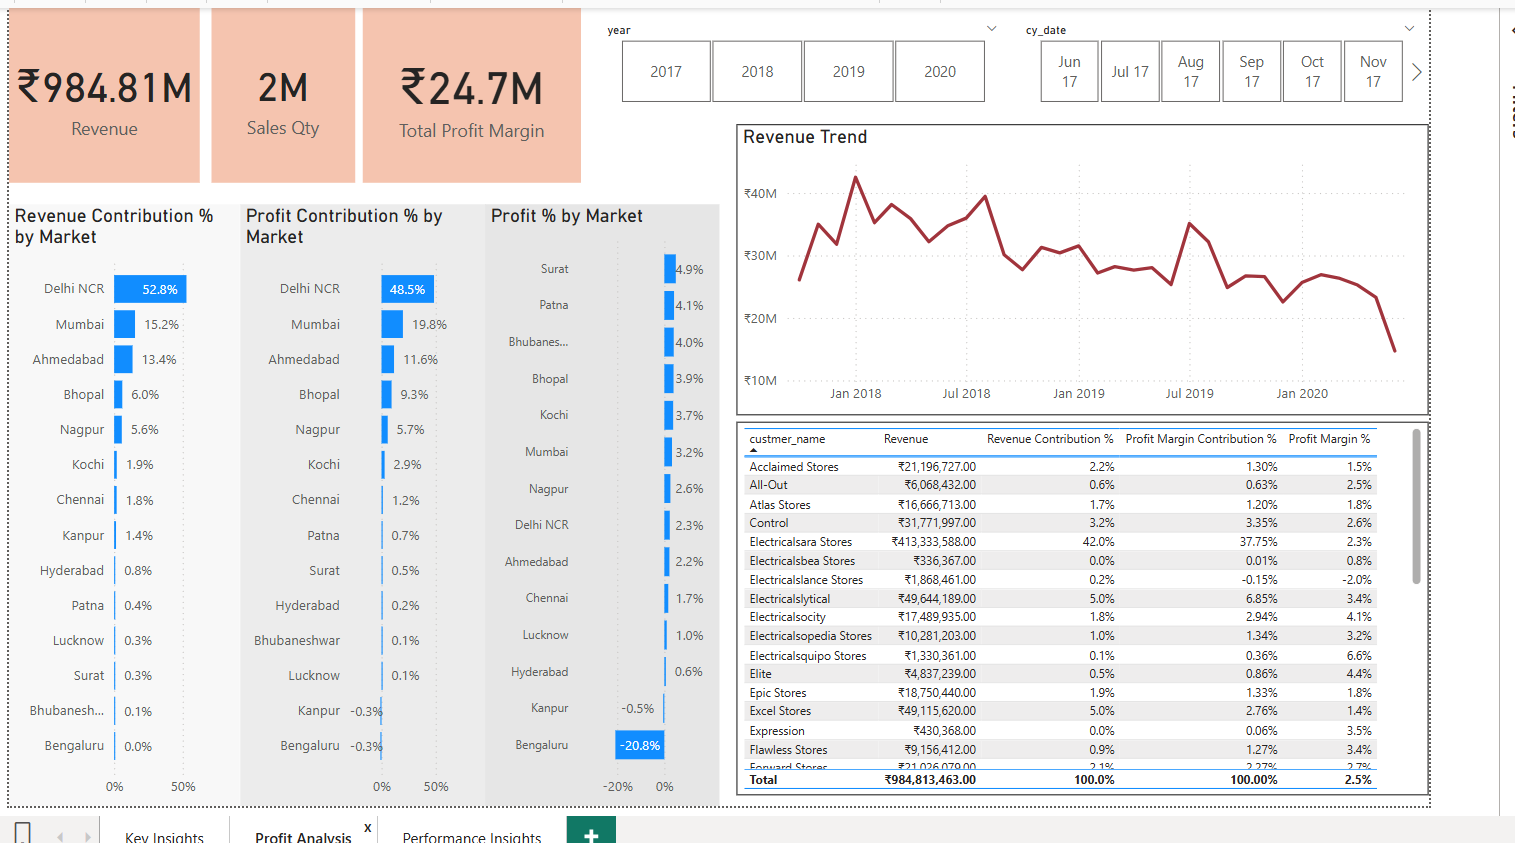

The page's visual inventory and layout, read from the dashboard file:
{"tool":"powerbi","page":{"name":"Profit Analysis","canvas":[1280,720],"ordinal":1},"visuals":[{"type":"card","fields":{"Values":["BaseMeasures.Revenue"]},"box":[0,0,172.2,157.6],"z":0},{"type":"card","fields":{"Values":["BaseMeasures.Sales Qty"]},"box":[183.1,0,129.4,157.6],"z":1000},{"type":"barChart","title":"Profit % by Market","fields":{"Y":["BaseMeasures.Profit Margin %"],"Category":["sales markets.markets_name"]},"box":[429.4,176.9,211.1,543.2],"z":2000},{"type":"barChart","title":"Profit Contribution % by Market","fields":{"Y":["BaseMeasures.Profit Margin Contribution %"],"Category":["sales markets.markets_name"]},"box":[208,176.9,221.4,543.2],"z":3000},{"type":"slicer","fields":{"Values":["sales date.year"]},"box":[526.2,7.8,377.4,83.6],"z":4000},{"type":"slicer","fields":{"Values":["sales date.cy_date"]},"box":[903.6,7.8,376.4,83.6],"z":5000},{"type":"tableEx","title":"Revenue for Top Five Customers","fields":{"Values":["sales customers.custmer_name","BaseMeasures.Revenue","BaseMeasures.Revenue Contribution %","BaseMeasures.Profit Margin Contribution %","BaseMeasures.Profit Margin %"]},"box":[655.9,373.5,624.1,337.1],"z":6000},{"type":"lineChart","title":"Revenue Trend","fields":{"Y":["BaseMeasures.Revenue"],"Category":["sales date.cy_date.Variation.Date Hierarchy.Year","sales date.cy_date.Variation.Date Hierarchy.Quarter","sales date.cy_date.Variation.Date Hierarchy.Month","sales date.cy_date.Variation.Date Hierarchy.Day"]},"box":[655.9,104.8,624.1,262.4],"z":7000},{"type":"card","fields":{"Values":["BaseMeasures.Total Profit Margin"]},"box":[318.9,0,196.8,157.6],"z":8000},{"type":"barChart","title":"Revenue Contribution % by Market","fields":{"Y":["BaseMeasures.Revenue Contribution %"],"Category":["sales markets.markets_name"]},"box":[0,176.9,208,543.2],"z":9000}]}

Visuals, with their boxes on the page's 1280x720 design canvas (x1, y1, x2, y2). These are canvas units, not pixel positions in the 1515x843 screenshot, which may show the page scaled, cropped or inside an application window:
card - BaseMeasures.Revenue: [x1=0, y1=0, x2=172, y2=158]
card - BaseMeasures.Sales Qty: [x1=183, y1=0, x2=312, y2=158]
"Profit % by Market" barChart: [x1=429, y1=177, x2=640, y2=720]
"Profit Contribution % by Market" barChart: [x1=208, y1=177, x2=429, y2=720]
slicer - sales date.year: [x1=526, y1=8, x2=904, y2=91]
slicer - sales date.cy_date: [x1=904, y1=8, x2=1280, y2=91]
"Revenue for Top Five Customers" tableEx: [x1=656, y1=374, x2=1280, y2=711]
"Revenue Trend" lineChart: [x1=656, y1=105, x2=1280, y2=367]
card - BaseMeasures.Total Profit Margin: [x1=319, y1=0, x2=516, y2=158]
"Revenue Contribution % by Market" barChart: [x1=0, y1=177, x2=208, y2=720]
